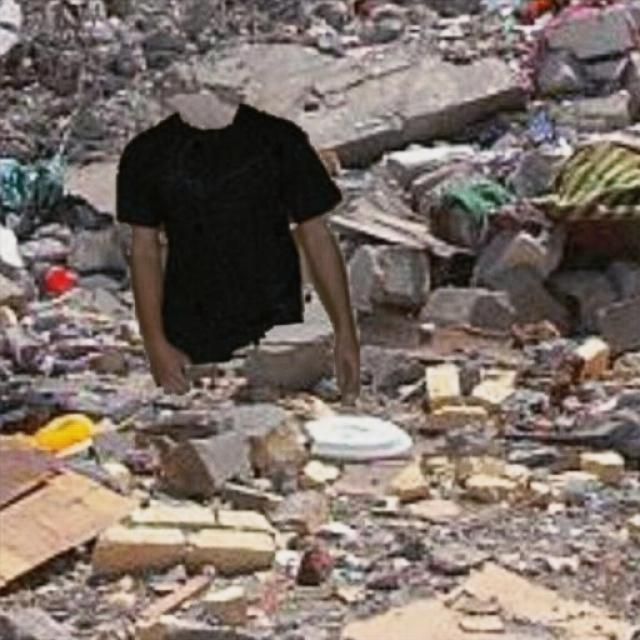Person in Rubble: (116, 104, 359, 406)
